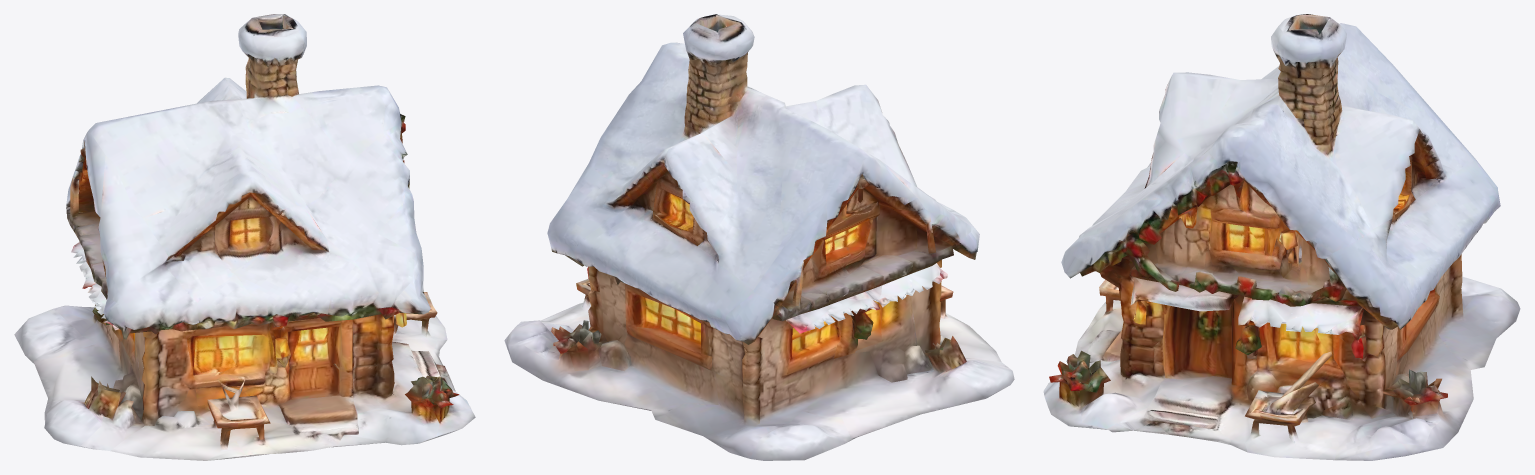
Rendered from dio_house_a.glb.
3 renders of one model, left to right at view 1: azimuth 30°, elevation 25°; view 2: azimuth 150°, elevation 25°; view 3: azimuth 270°, elevation 25°, orthographic. The views are drawn at different scales.
Visible parts, largest first — view 1: tripo_part_5, tripo_part_3; view 2: tripo_part_5, tripo_part_3; view 3: tripo_part_5, tripo_part_3.
Part boxes in pixels (x1,y1,x2,y2): tripo_part_5: (66,14,430,339); tripo_part_3: (14,242,475,460); tripo_part_5: (547,14,979,344); tripo_part_3: (504,259,1014,460); tripo_part_5: (1061,14,1500,329); tripo_part_3: (1043,254,1520,460).
Size of the model in its own units: 0.382 by 0.2852 by 0.3444.
Materials: 2 (2 with a texture image).
